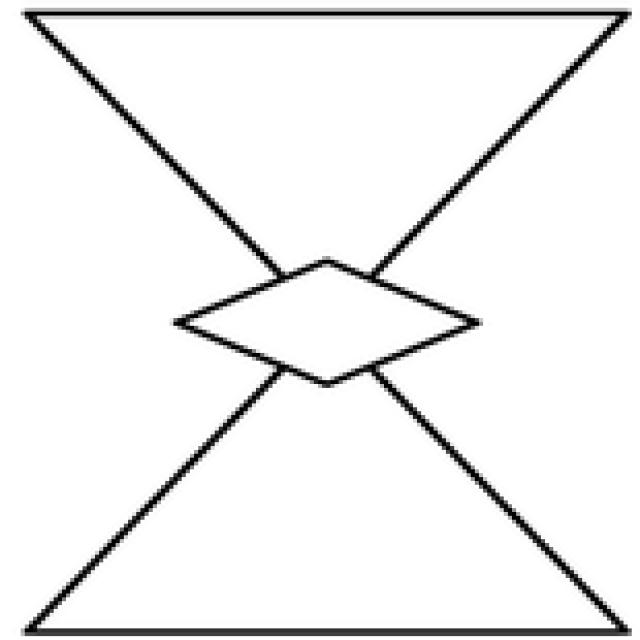Plug Valve: (30, 10, 625, 630)
